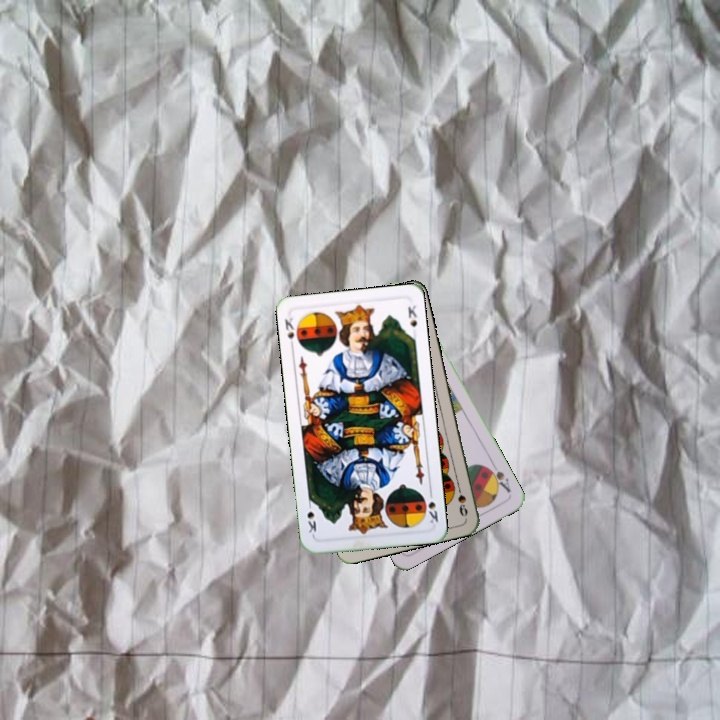S9: (453, 479, 470, 519)
SA: (483, 459, 513, 495)
SK: (424, 486, 441, 526), (281, 313, 296, 351)
